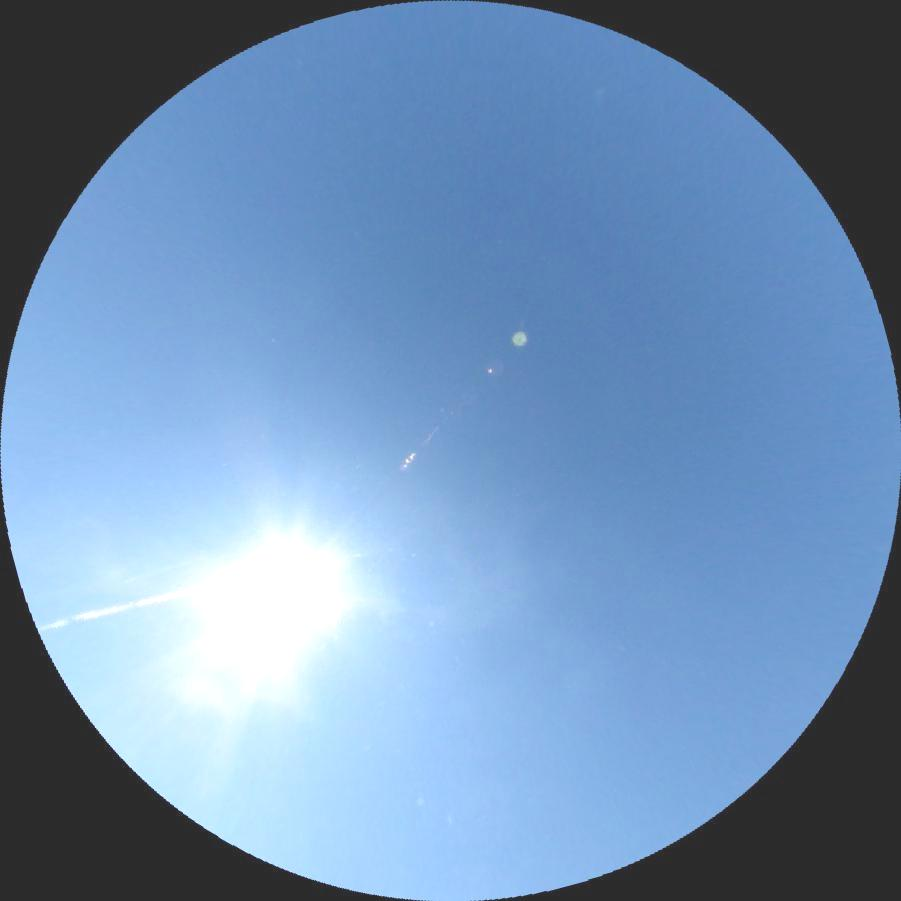parasite: (37, 577, 225, 634)
sun: (199, 521, 354, 672)
